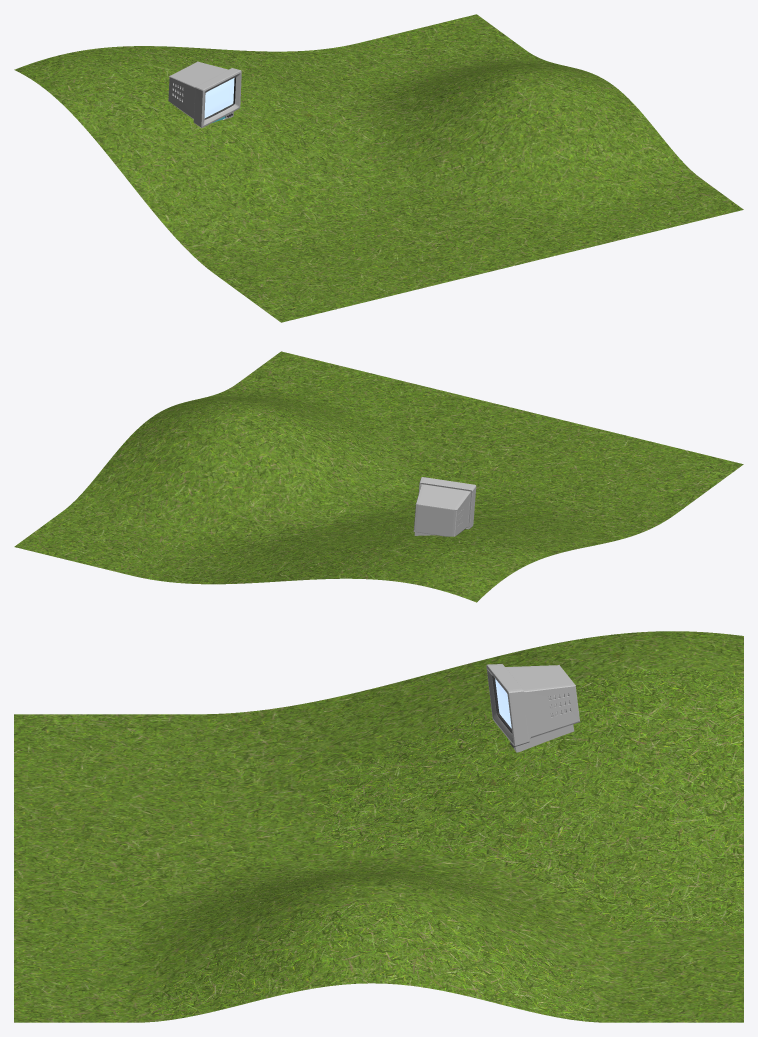
File: hill.glb
3 renders of one model, top to bottom at view 1: azimuth 30°, elevation 25°; view 2: azimuth 150°, elevation 25°; view 3: azimuth 270°, elevation 25°, orthographic. The views are drawn at different scales.
Visible parts, largest first — view 1: Plane, Cube; view 2: Plane, Cube; view 3: Plane, Cube.
Boxes of the visible parts, x1,y1,x2,y2 form: Plane: (14, 14, 743, 322); Cube: (168, 61, 241, 127); Plane: (14, 351, 743, 602); Cube: (413, 477, 476, 536); Plane: (14, 631, 743, 1022); Cube: (486, 664, 580, 746).
Size of the model in its own units: 20 by 3.53 by 20.
Materials: 6 (1 with a texture image).
